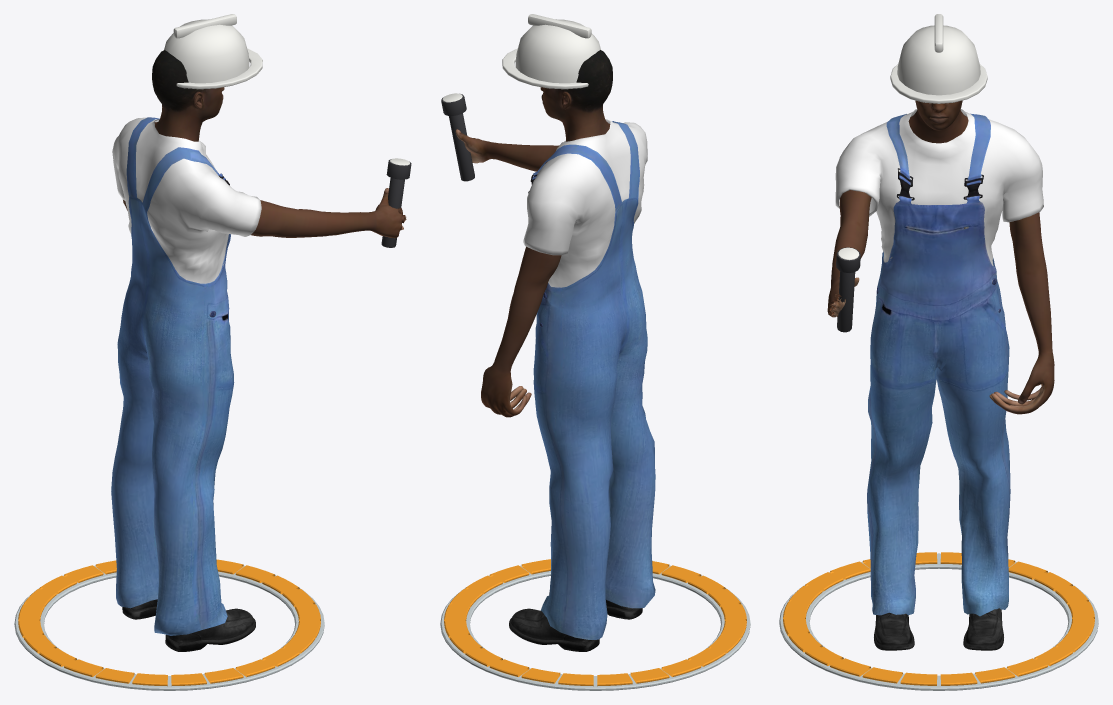
Rendered from MDO-TEC-006.glb.
The picture shows the model from 3 angles, left to right: view 1: azimuth 30°, elevation 25°; view 2: azimuth 150°, elevation 25°; view 3: azimuth 270°, elevation 25°; orthographic projection. The views are drawn at different scales.
Parts seen in each view (by area): view 1: MDO-TEC-006_pessoa_male_worksuit01, MDO-TEC-006_pessoa, MDO-TEC-006_capacete, MDO-TEC-006_anel_fundo, MDO-TEC-006_pessoa_shoes04, MDO-TEC-006_capacete_aba, MDO-TEC-006_capacete_friso; view 2: MDO-TEC-006_pessoa_male_worksuit01, MDO-TEC-006_pessoa, MDO-TEC-006_capacete, MDO-TEC-006_anel_fundo, MDO-TEC-006_pessoa_shoes04, MDO-TEC-006_ferD_lanterna, MDO-TEC-006_capacete_aba, MDO-TEC-006_capacete_friso; view 3: MDO-TEC-006_pessoa_male_worksuit01, MDO-TEC-006_pessoa, MDO-TEC-006_capacete, MDO-TEC-006_anel_fundo, MDO-TEC-006_pessoa_shoes04, MDO-TEC-006_capacete_aba, MDO-TEC-006_ferD_lanterna.
Part boxes in pixels (x1,y1,x2,y2): MDO-TEC-006_pessoa_male_worksuit01: [111, 117, 261, 635]; MDO-TEC-006_pessoa: [123, 50, 406, 238]; MDO-TEC-006_capacete: [164, 19, 249, 83]; MDO-TEC-006_anel_fundo: [14, 565, 324, 690]; MDO-TEC-006_pessoa_shoes04: [122, 599, 255, 651]; MDO-TEC-006_capacete_aba: [176, 48, 262, 89]; MDO-TEC-006_capacete_friso: [173, 14, 236, 38]; MDO-TEC-006_pessoa_male_worksuit01: [523, 119, 655, 639]; MDO-TEC-006_pessoa: [455, 50, 612, 417]; MDO-TEC-006_capacete: [515, 19, 600, 83]; MDO-TEC-006_anel_fundo: [440, 565, 750, 690]; MDO-TEC-006_pessoa_shoes04: [509, 592, 642, 651]; MDO-TEC-006_ferD_lanterna: [449, 113, 474, 181]; MDO-TEC-006_capacete_aba: [502, 48, 588, 89]; MDO-TEC-006_capacete_friso: [528, 14, 591, 38]; MDO-TEC-006_pessoa_male_worksuit01: [835, 109, 1043, 616]; MDO-TEC-006_pessoa: [827, 100, 1054, 414]; MDO-TEC-006_capacete: [897, 25, 980, 95]; MDO-TEC-006_anel_fundo: [779, 553, 1098, 690]; MDO-TEC-006_pessoa_shoes04: [874, 608, 1003, 650]; MDO-TEC-006_capacete_aba: [890, 64, 987, 103]; MDO-TEC-006_ferD_lanterna: [837, 271, 855, 332].
Bounding box in the file's own units: 1.03 × 1.79 × 0.84.
10 materials, 5 textured.
